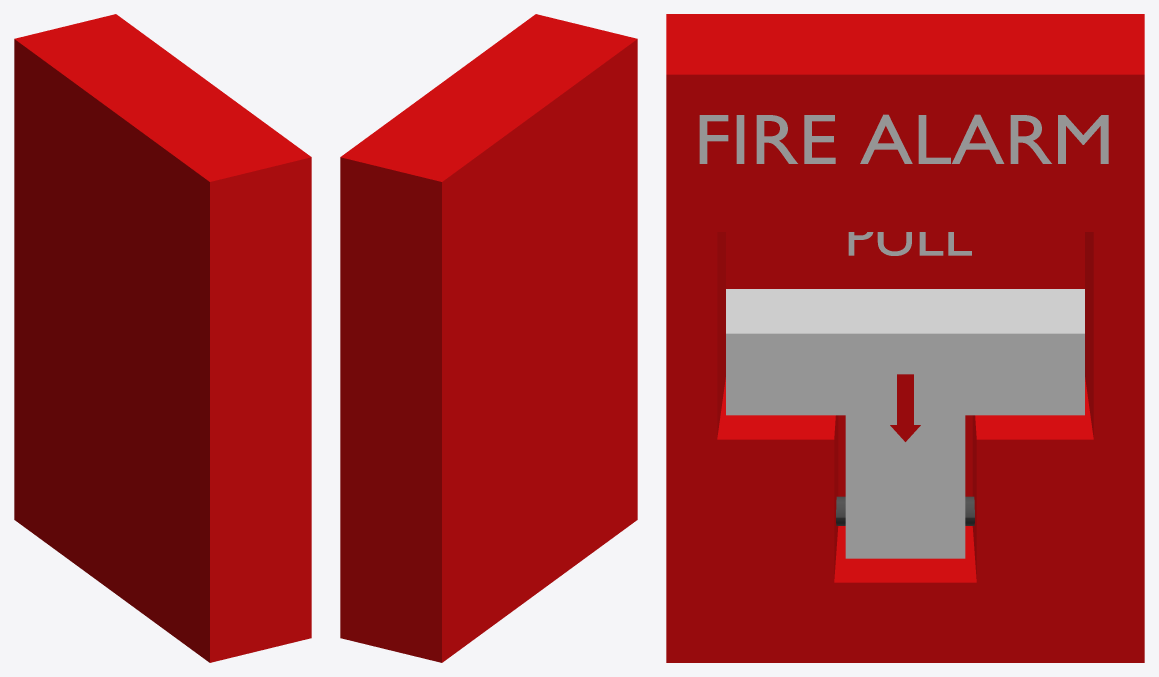
Rendered from firealarm 1.fbx.
3 renders of one model, left to right at view 1: azimuth 30°, elevation 25°; view 2: azimuth 150°, elevation 25°; view 3: azimuth 270°, elevation 25°, orthographic. The views are drawn at different scales.
Parts seen in each view (by area): view 1: Casing; view 2: Casing; view 3: Casing, Lever.
Part boxes in pixels (x1,y1,x2,y2): Casing: (14, 14, 311, 662); Casing: (340, 14, 637, 662); Casing: (666, 14, 1144, 662); Lever: (726, 289, 1084, 558).
Bounding box in the file's own units: 44.78 × 200 × 147.
